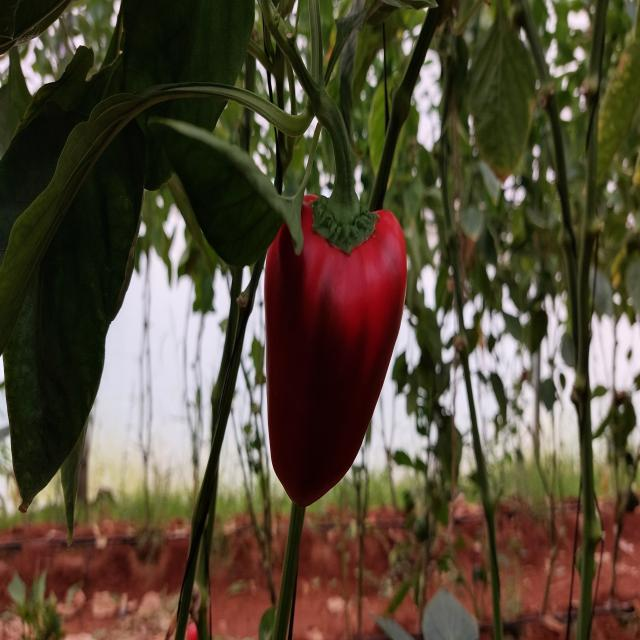Red-Ready-to-Harvest: (268, 197, 409, 521)
